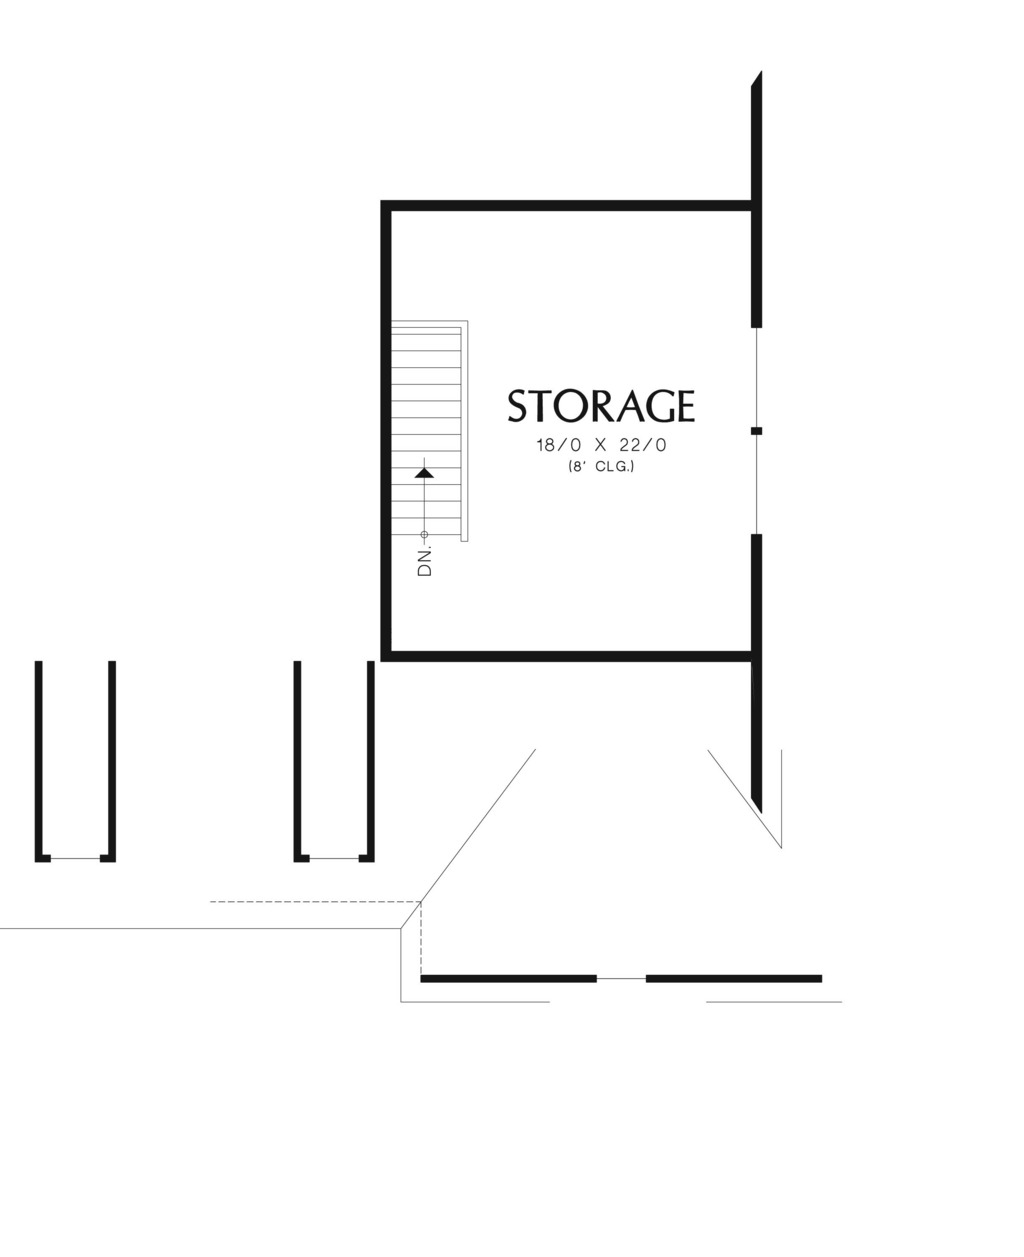stairs: (387, 303, 506, 554)
